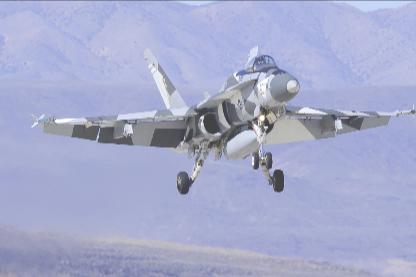F15: (30, 45, 415, 195)
